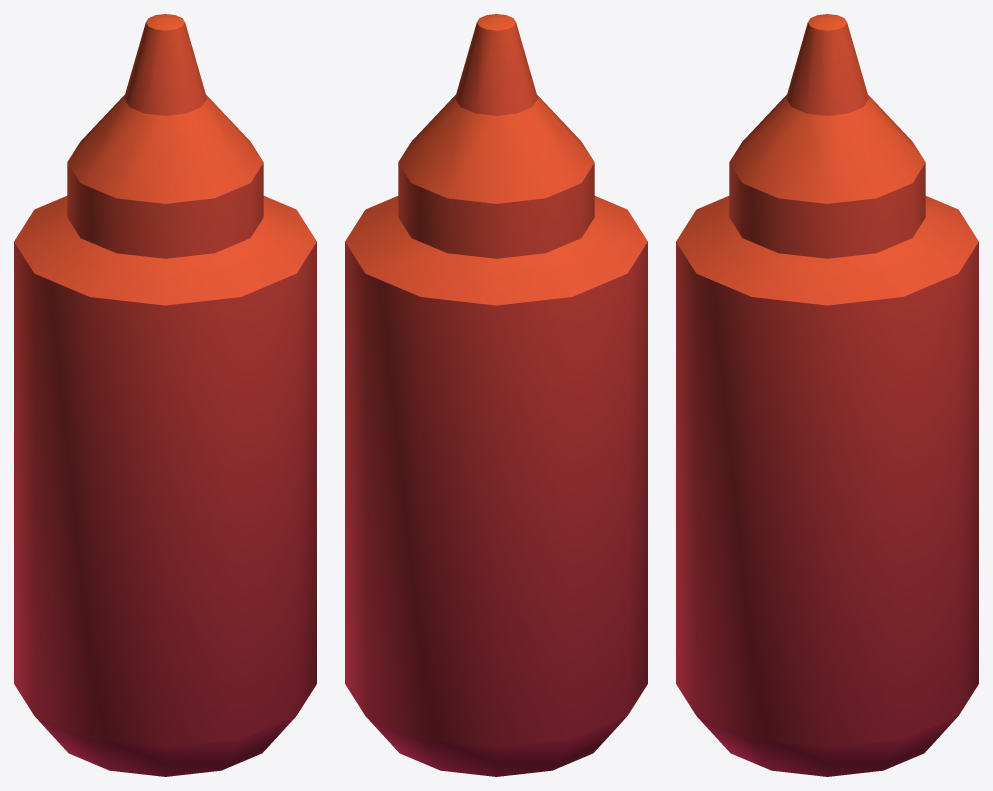
The model's file is Ketchup.glb.
The picture shows the model from 3 angles, left to right: view 1: azimuth 30°, elevation 25°; view 2: azimuth 150°, elevation 25°; view 3: azimuth 270°, elevation 25°; orthographic projection.
Visible parts, largest first — view 1: ketchup; view 2: ketchup; view 3: ketchup.
Part boxes in pixels (<box>): ketchup: <box>14,14,316,776</box>; ketchup: <box>345,14,647,776</box>; ketchup: <box>676,14,978,776</box>.
Size of the model in its own units: 0.3 by 0.7785 by 0.3.
1 material, 1 textured.
